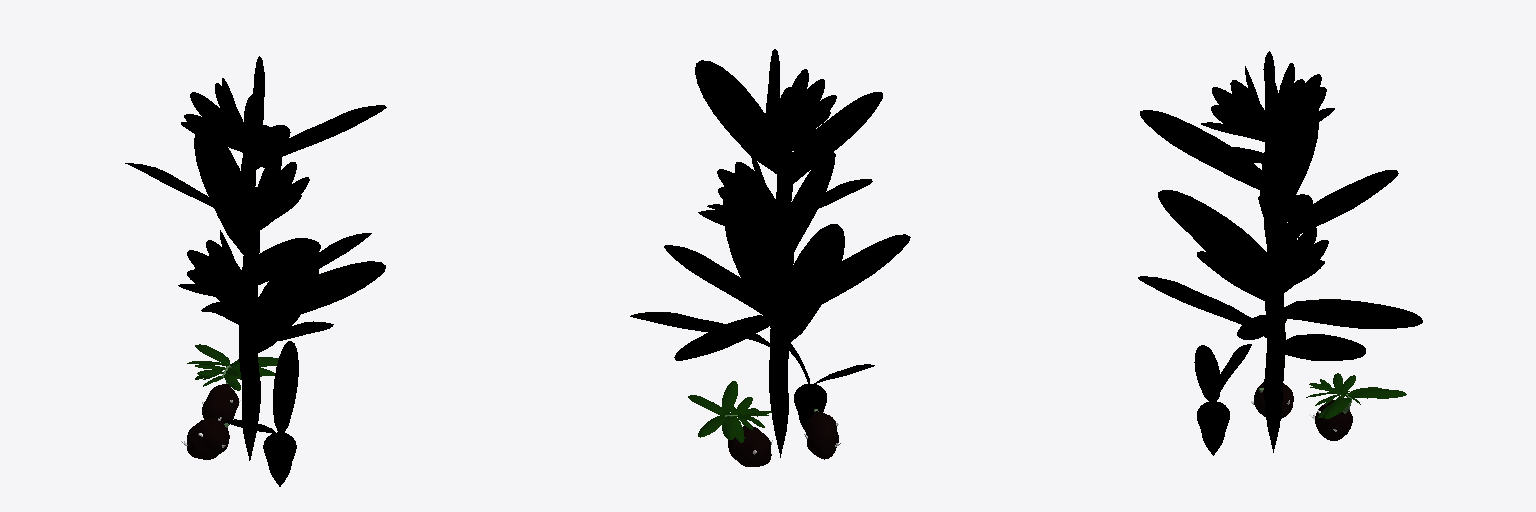
Rendered from Crop.obj.
The picture shows the model from 3 angles: view 1: azimuth 30°, elevation 25°; view 2: azimuth 150°, elevation 25°; view 3: azimuth 270°, elevation 25°; orthographic projection.
Visible parts, largest first — view 1: polySurface82 polySurface98, polySurface82 polySurface115, polySurface82 polySurface117, polySurface82 polySurface116, SM_CropCarrot_ML:polySurface23 SM_CropCarrot_ML:polySurface26 SM, polySurface82 polySurface100, polySurface82 polySurface121, CropPotatoCut_LemoineM:pCylinder2 CropPotatoCut_LemoineM:polySur, SM_CropCarrot_ML:polySurface23 SM_CropCarrot_ML:polySurface25 SM, CropPotato_LemoineM:pCylinder2 CropPotato_LemoineM:polySurface1, polySurface82 polySurface99, polySurface82 polySurface110 (+9 smaller); view 2: polySurface82 polySurface98, polySurface82 polySurface100, polySurface82 polySurface114, polySurface82 polySurface118, polySurface82 polySurface121, polySurface82 polySurface119, polySurface82 polySurface115, polySurface82 polySurface122, polySurface82 polySurface116, CropPotato_LemoineM:pCylinder2 CropPotato_LemoineM:polySurface1, CropPotatoCut_LemoineM:pCylinder2 CropPotatoCut_LemoineM:polySur, polySurface82 polySurface117 (+10 smaller); view 3: polySurface82 polySurface98, polySurface82 polySurface116, polySurface82 polySurface118, polySurface82 polySurface122, polySurface82 polySurface117, polySurface82 polySurface120, polySurface82 polySurface99, polySurface82 polySurface119, polySurface82 polySurface121, SM_CropCarrot_ML:polySurface23 SM_CropCarrot_ML:polySurface25 SM, polySurface82 polySurface126, polySurface82 polySurface108 (+12 smaller).
Boxes of the visible parts, <box> form: polySurface82 polySurface98: <box>239,56,264,460</box>; polySurface82 polySurface115: <box>257,261,385,327</box>; polySurface82 polySurface117: <box>194,134,244,254</box>; polySurface82 polySurface116: <box>246,238,320,284</box>; SM_CropCarrot_ML:polySurface23 SM_CropCarrot_ML:polySurface26 SM: <box>273,341,298,435</box>; polySurface82 polySurface100: <box>256,105,386,169</box>; polySurface82 polySurface121: <box>258,233,371,309</box>; CropPotatoCut_LemoineM:pCylinder2 CropPotatoCut_LemoineM:polySur: <box>181,419,229,459</box>; SM_CropCarrot_ML:polySurface23 SM_CropCarrot_ML:polySurface25 SM: <box>263,432,296,486</box>; CropPotato_LemoineM:pCylinder2 CropPotato_LemoineM:polySurface1: <box>202,365,240,424</box>; polySurface82 polySurface99: <box>125,163,247,233</box>; polySurface82 polySurface110: <box>187,269,245,300</box>; polySurface82 polySurface98: <box>766,49,792,457</box>; polySurface82 polySurface100: <box>695,60,776,173</box>; polySurface82 polySurface114: <box>783,234,910,324</box>; polySurface82 polySurface118: <box>791,92,882,183</box>; polySurface82 polySurface121: <box>723,172,771,309</box>; polySurface82 polySurface119: <box>789,224,844,342</box>; polySurface82 polySurface115: <box>664,245,770,316</box>; polySurface82 polySurface122: <box>674,315,780,360</box>; polySurface82 polySurface116: <box>768,152,835,268</box>; CropPotato_LemoineM:pCylinder2 CropPotato_LemoineM:polySurface1: <box>725,415,772,466</box>; CropPotatoCut_LemoineM:pCylinder2 CropPotatoCut_LemoineM:polySur: <box>804,409,840,459</box>; polySurface82 polySurface117: <box>698,209,785,250</box>; polySurface82 polySurface98: <box>1263,51,1285,452</box>; polySurface82 polySurface116: <box>1158,190,1273,281</box>; polySurface82 polySurface118: <box>1140,110,1264,192</box>; polySurface82 polySurface122: <box>1284,299,1422,328</box>; polySurface82 polySurface117: <box>1281,170,1398,243</box>; polySurface82 polySurface120: <box>1270,334,1365,360</box>; polySurface82 polySurface99: <box>1260,109,1318,200</box>; polySurface82 polySurface119: <box>1138,276,1266,337</box>; polySurface82 polySurface121: <box>1197,251,1277,309</box>; SM_CropCarrot_ML:polySurface23 SM_CropCarrot_ML:polySurface25 SM: <box>1197,402,1229,455</box>; polySurface82 polySurface126: <box>1279,87,1326,143</box>; polySurface82 polySurface108: <box>1211,105,1267,140</box>.
Bounding box in the file's own units: 13.38 × 22.52 × 14.26.